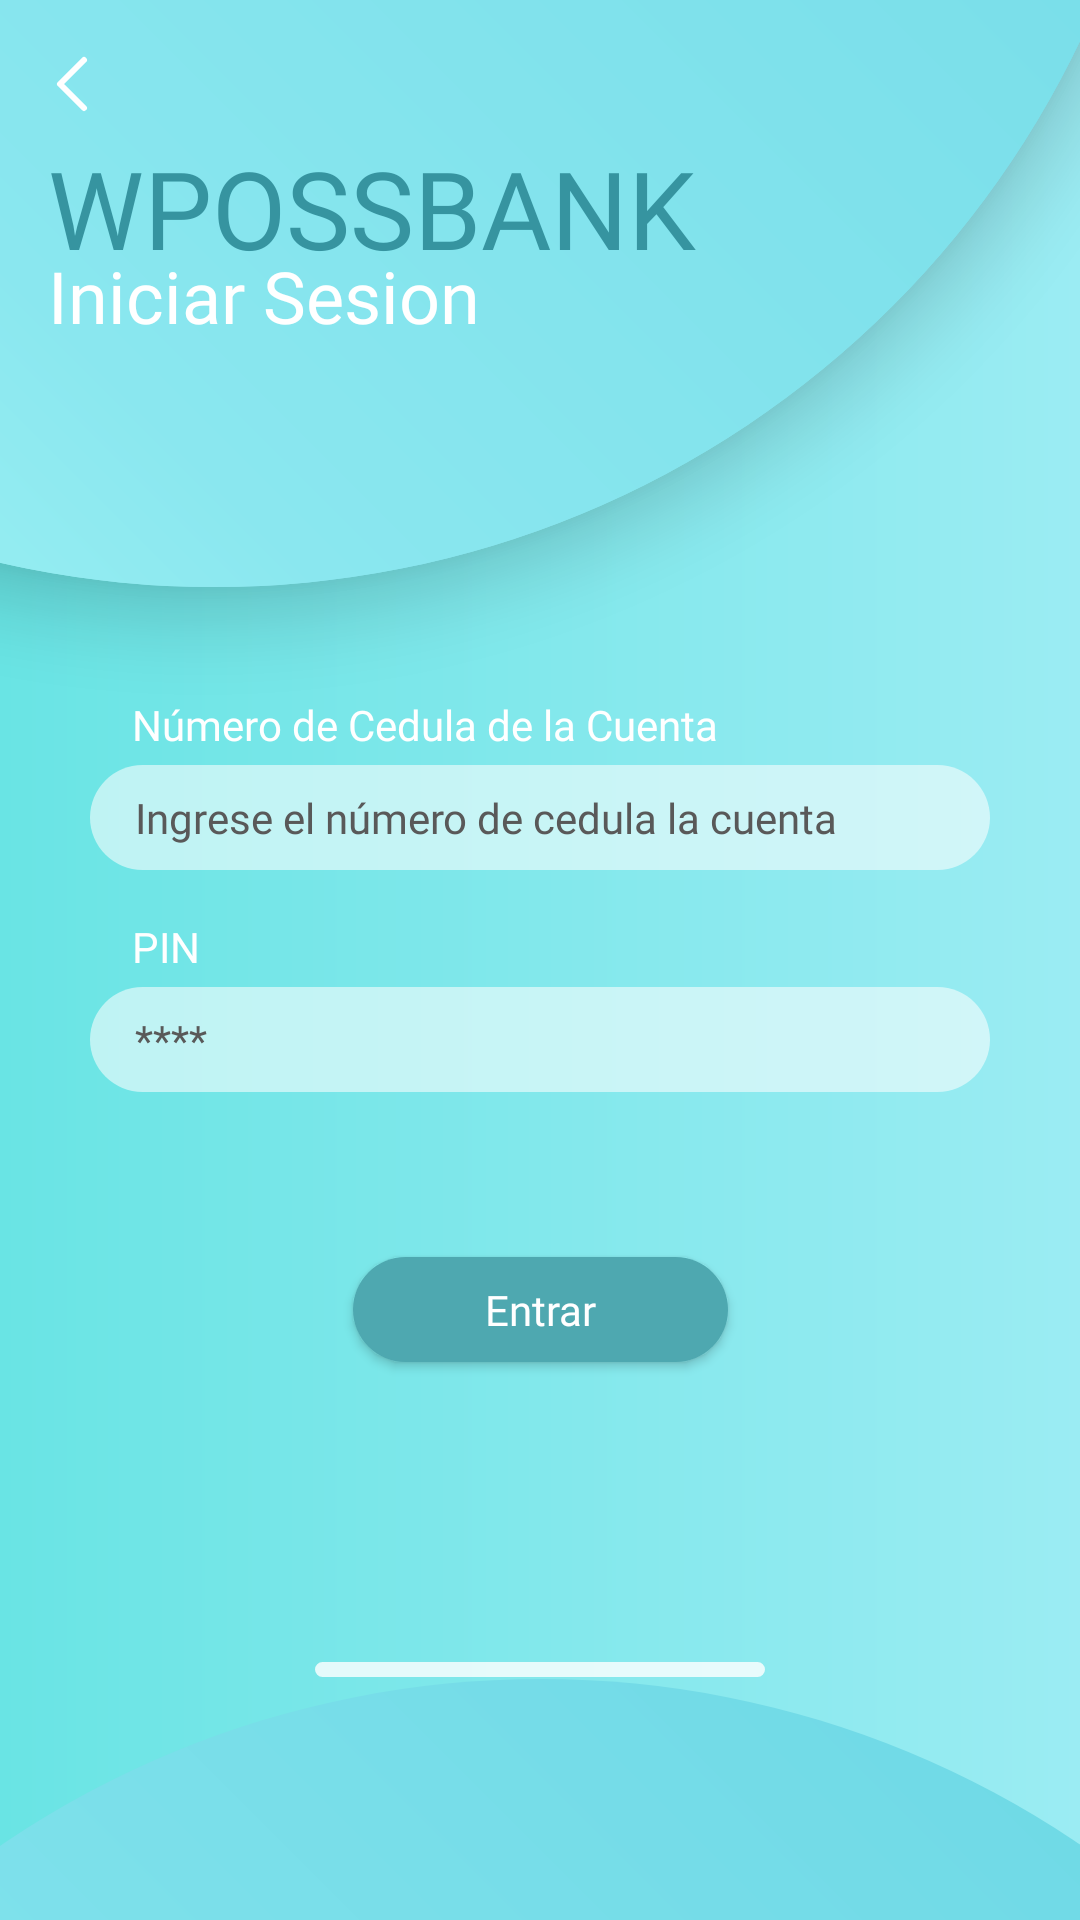

Screen size 1080*1920. Icon name, then its center in pixels as (x,y):
Regresar: (72,84)
